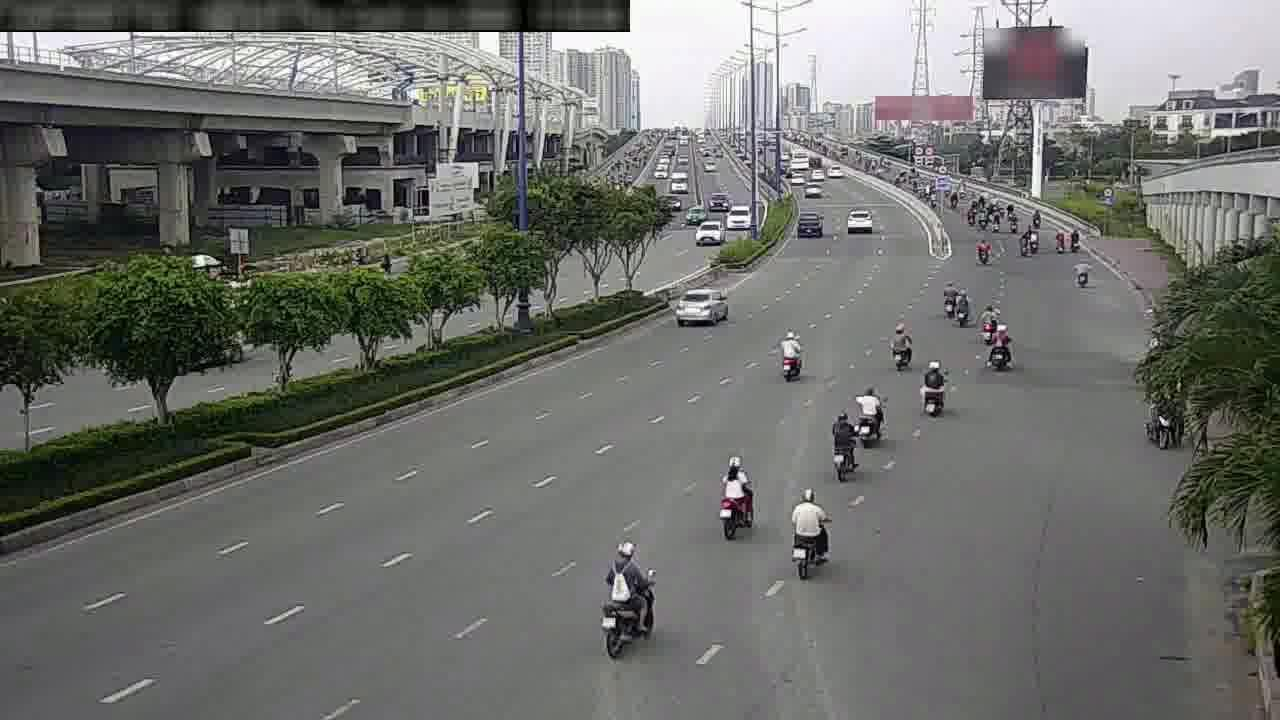car: (675, 288, 728, 326), (847, 209, 875, 233), (796, 211, 819, 236)
motorbike: (603, 541, 654, 659), (790, 488, 829, 578), (718, 454, 755, 537), (831, 408, 858, 479), (853, 385, 882, 447), (918, 357, 947, 417), (984, 319, 1014, 375), (888, 323, 911, 371), (783, 332, 801, 380), (952, 282, 971, 324), (1073, 253, 1094, 288), (941, 278, 956, 316), (982, 308, 997, 341), (974, 235, 991, 263), (1017, 232, 1028, 255), (1029, 228, 1039, 252), (1070, 226, 1079, 252), (1053, 230, 1063, 253)
